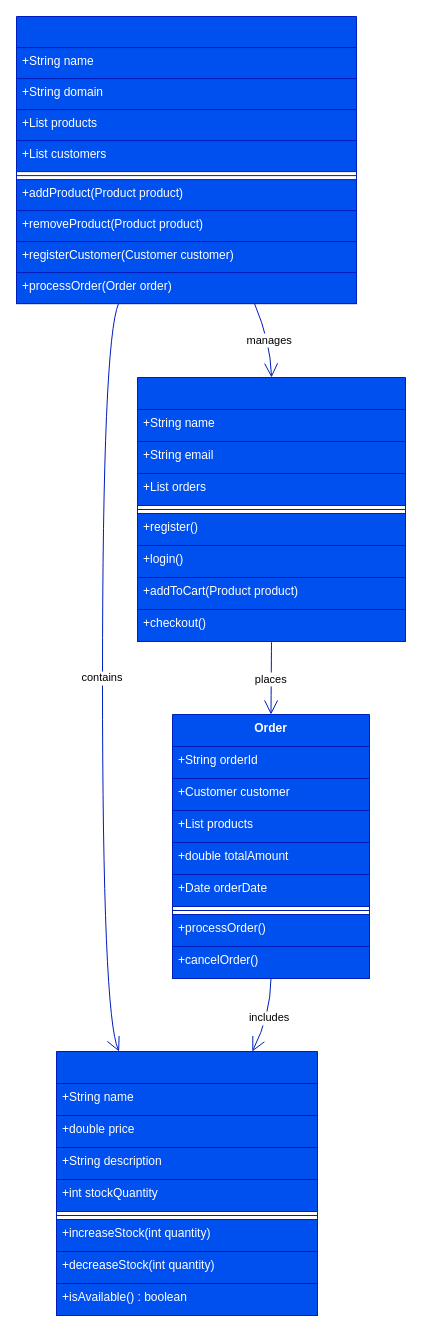
The diagram is 422 pixels wide and 1332 high, and some of its shapes have lost their labels. Here are the shapes that lost their labels. From the top down, the box of each, then its label:
(16, 16, 356, 304): Webshop
(136, 376, 406, 642): Customer
(56, 1050, 318, 1316): Product
